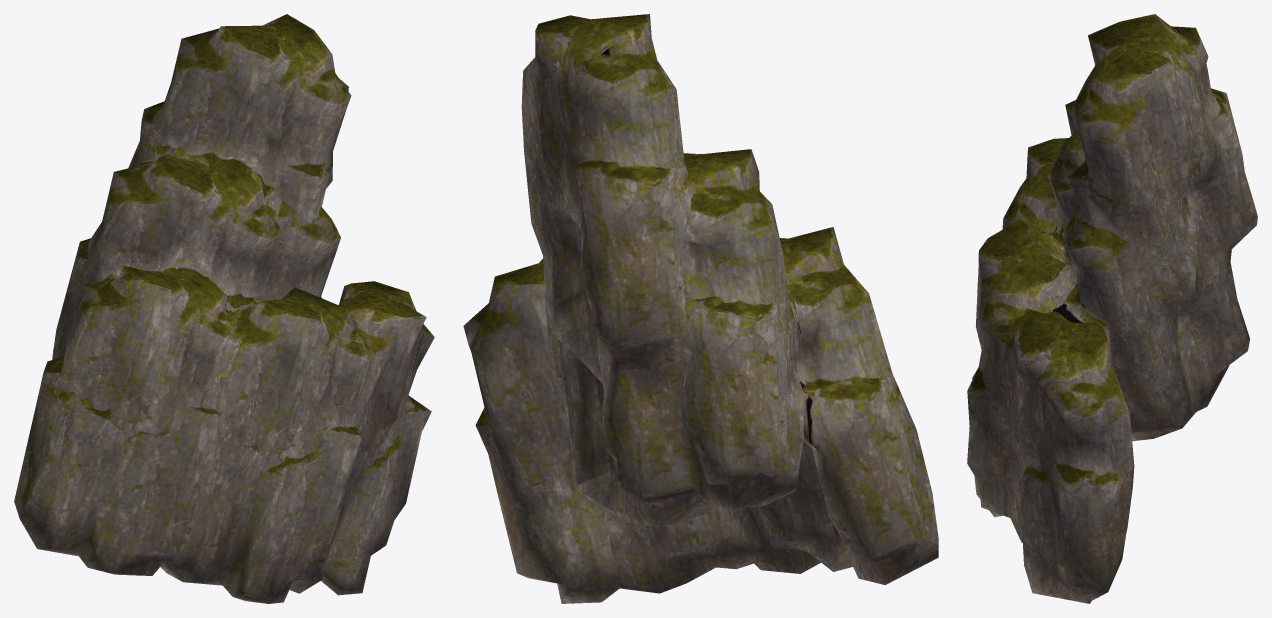
Rendered from SM_PROXY_SM_Cliff_01c.fbx.
The picture shows the model from 3 angles, left to right: view 1: azimuth 30°, elevation 25°; view 2: azimuth 150°, elevation 25°; view 3: azimuth 270°, elevation 25°; orthographic projection. The views are drawn at different scales.
Parts seen in each view (by area): view 1: SM_PROXY_SM_Cliff_01c_LOD0; view 2: SM_PROXY_SM_Cliff_01c_LOD0; view 3: SM_PROXY_SM_Cliff_01c_LOD0.
Part boxes in pixels (x1,y1,x2,y2): SM_PROXY_SM_Cliff_01c_LOD0: (14,14,434,603); SM_PROXY_SM_Cliff_01c_LOD0: (463,14,938,603); SM_PROXY_SM_Cliff_01c_LOD0: (967,14,1257,603).
Bounding box in the file's own units: 50527 × 31352 × 64875.
